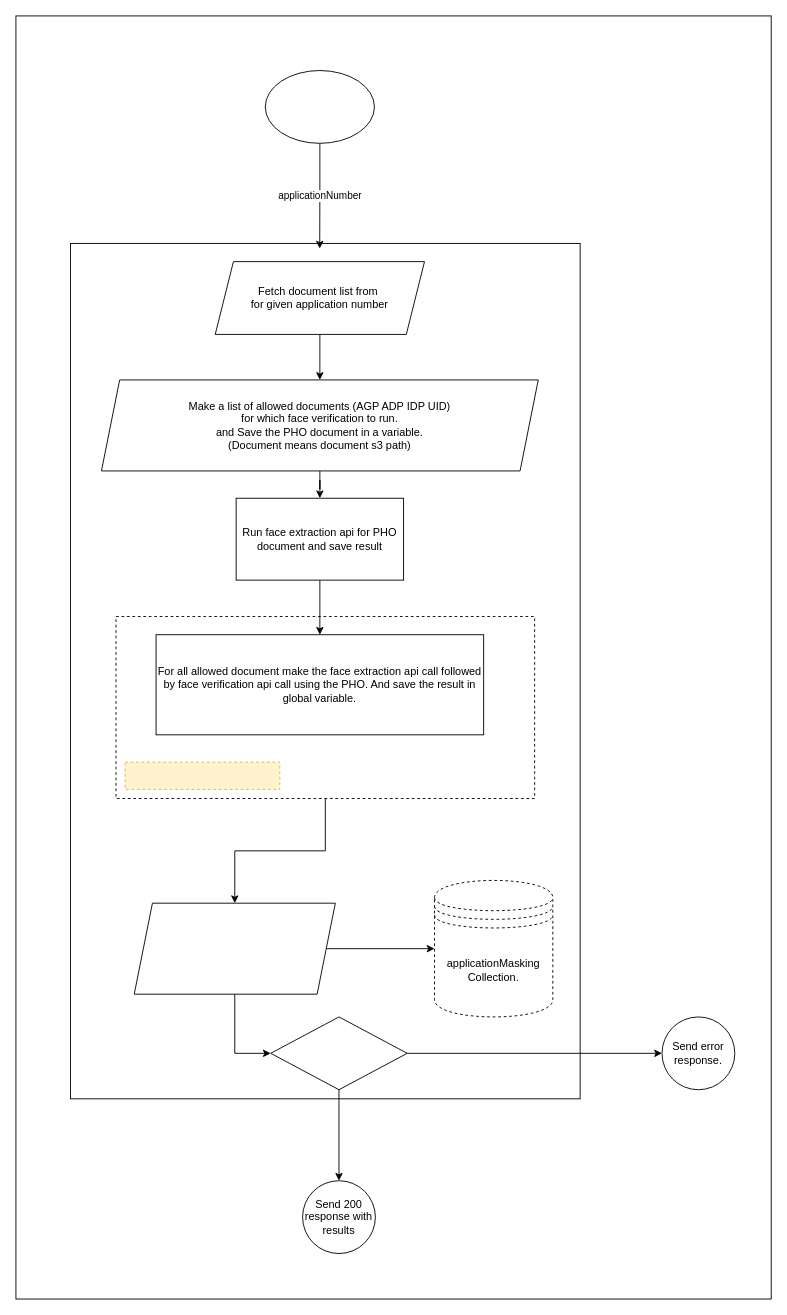
Some shapes in this 787 by 1315 pixel diagram are drawn without their labels. The centre of each missing label's shape, as x and y in pixels:
"Add error handling here if the api fails skip for next document" belongs at (202,775).
"If all process ran successfully" belongs at (338,1053).
"Start" belongs at (319,106).
"Store the extracted result in the database." belongs at (234,948).
